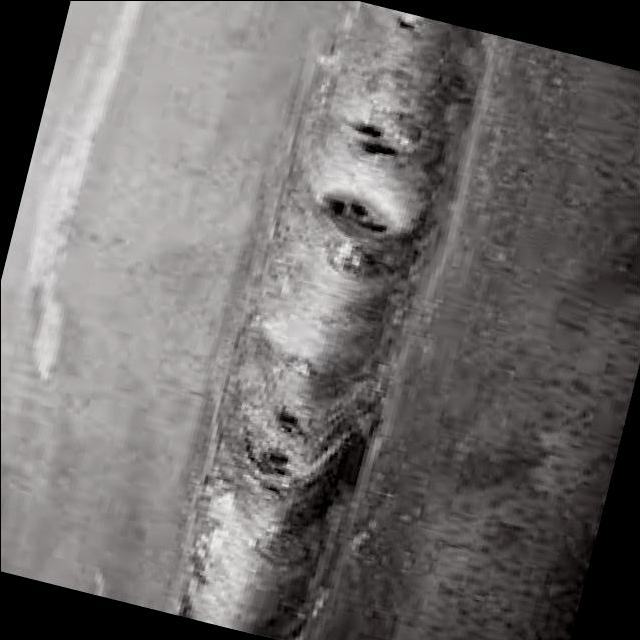defect: (315, 185, 400, 242), (341, 119, 408, 164), (243, 445, 295, 502), (258, 405, 308, 447), (386, 13, 421, 38)
